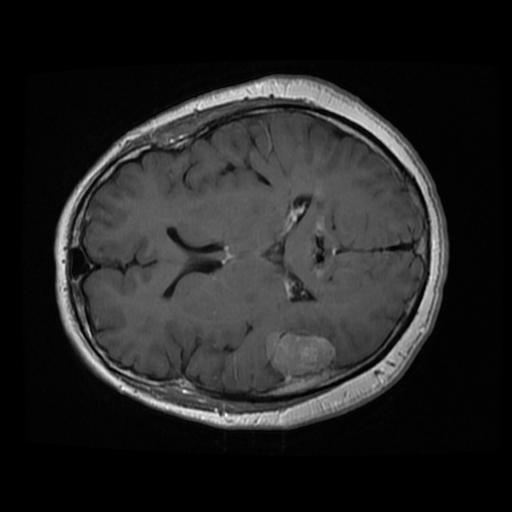meningioma: (264, 331, 336, 377)
